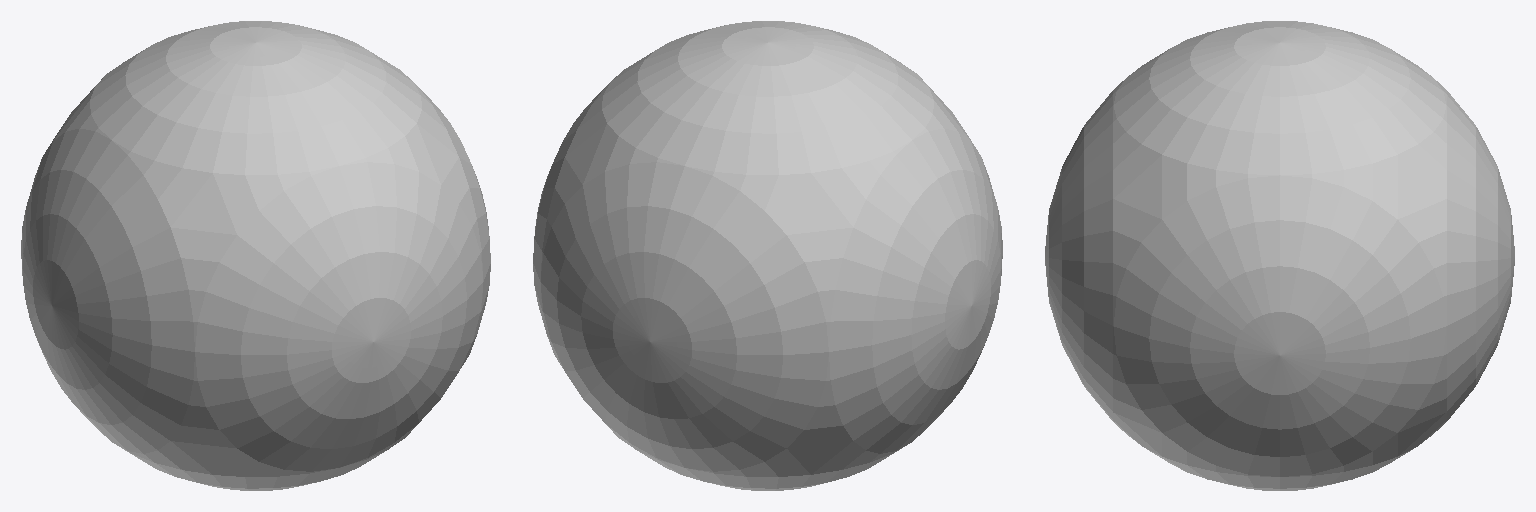
The model's file is body.obj.
The picture shows the model from 3 angles: view 1: azimuth 30°, elevation 25°; view 2: azimuth 150°, elevation 25°; view 3: azimuth 270°, elevation 25°; orthographic projection.
Visible parts, largest first — view 1: Sphere; view 2: Sphere; view 3: Sphere.
Boxes of the visible parts, <box> form: Sphere: <box>21,21,490,490</box>; Sphere: <box>533,21,1002,490</box>; Sphere: <box>1045,21,1514,490</box>.
Size of the model in its own units: 2 by 2 by 2.